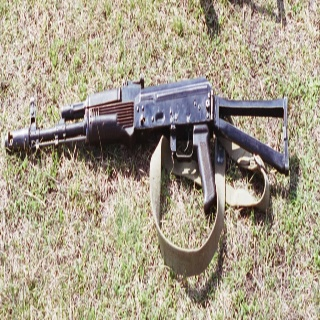rifle: (5, 76, 296, 212)
